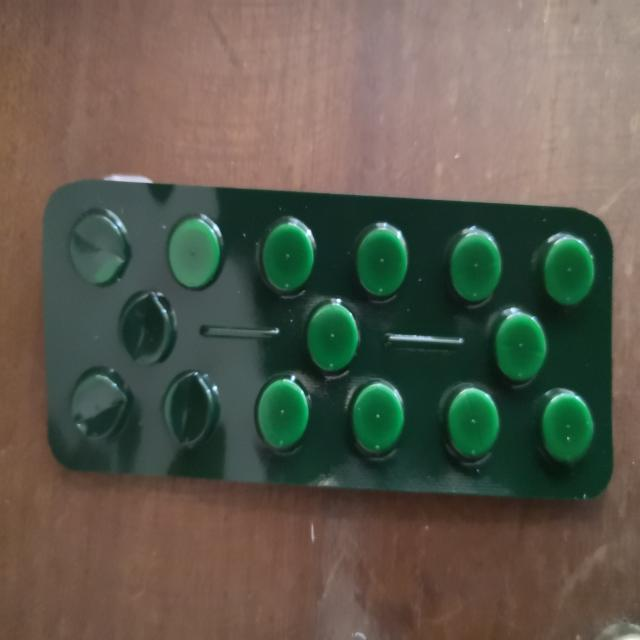Empty: (67, 208, 129, 289), (65, 364, 125, 446), (111, 288, 174, 365), (158, 371, 219, 449)
Pill: (250, 367, 314, 458), (533, 224, 601, 308), (436, 380, 504, 464), (253, 213, 317, 297), (300, 299, 366, 377), (441, 224, 503, 306), (159, 213, 224, 290), (488, 308, 552, 386), (344, 376, 408, 453), (348, 220, 410, 298), (538, 390, 597, 466)
